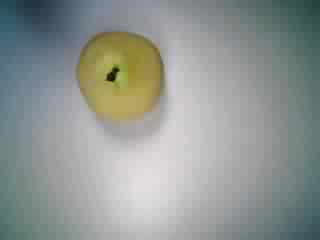pear: (65, 24, 171, 131)
